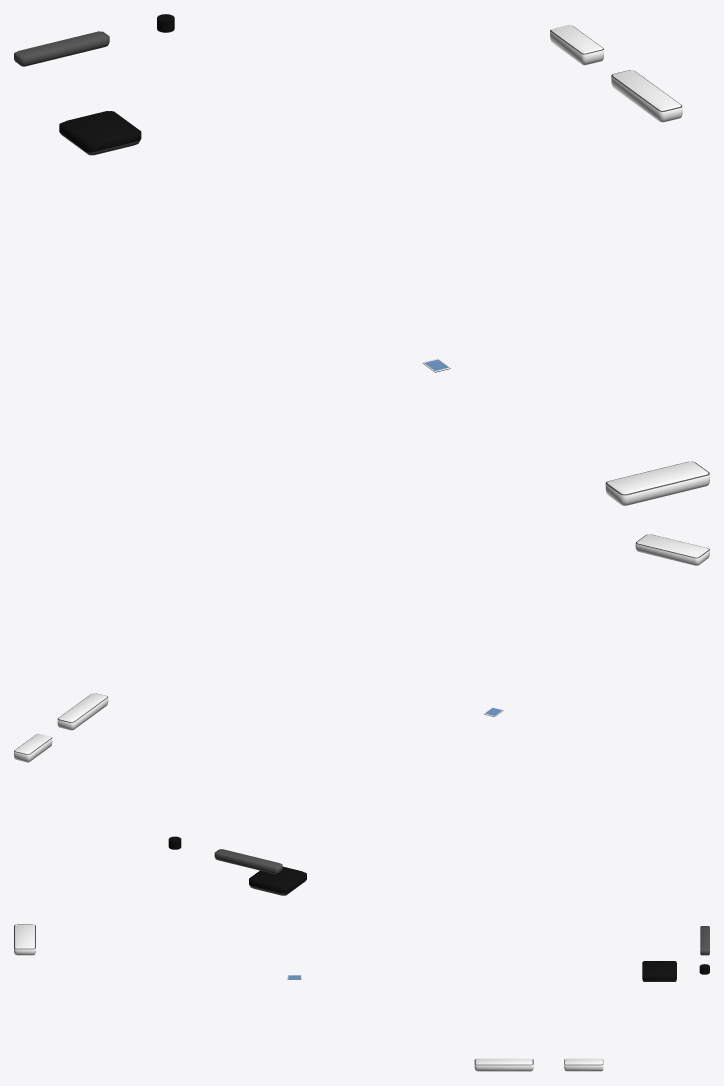
File: tablet.glb
3 views of the same model, one above another, from view 1: azimuth 30°, elevation 25°; view 2: azimuth 150°, elevation 25°; view 3: azimuth 270°, elevation 25° (orthographic). The views are drawn at different scales.
Parts seen in each view (by area): view 1: ChamferBox002, ChamferBox006, ChamferBox005, ChamferBox003, ChamferBox004; view 2: ChamferBox002, ChamferBox006, ChamferBox005, ChamferBox003, ChamferBox004; view 3: ChamferBox005, ChamferBox006, ChamferBox002, ChamferBox004, ChamferBox003.
Part boxes in pixels (x1,y1,x2,y2): ChamferBox002: [605, 461, 709, 505]; ChamferBox006: [59, 111, 141, 155]; ChamferBox005: [611, 70, 682, 122]; ChamferBox003: [14, 31, 109, 66]; ChamferBox004: [550, 24, 603, 65]; ChamferBox002: [635, 534, 709, 565]; ChamferBox006: [249, 866, 306, 895]; ChamferBox005: [57, 693, 108, 730]; ChamferBox003: [214, 849, 282, 874]; ChamferBox004: [14, 733, 52, 762]; ChamferBox005: [474, 1058, 533, 1071]; ChamferBox006: [642, 961, 676, 981]; ChamferBox002: [14, 924, 35, 955]; ChamferBox004: [564, 1058, 603, 1071]; ChamferBox003: [700, 926, 709, 955].
Bounding box in the file's own units: 25.1 × 3.65 × 56.98.
